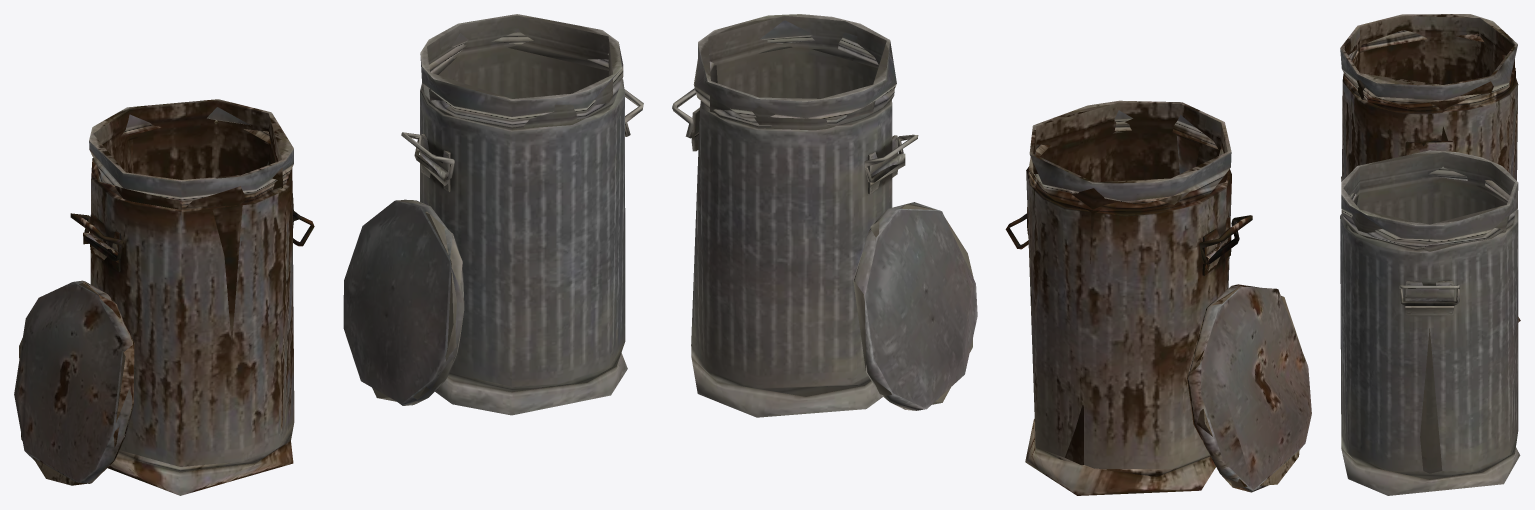
File: metal_trash_can.glb
The picture shows the model from 3 angles, left to right: view 1: azimuth 30°, elevation 25°; view 2: azimuth 150°, elevation 25°; view 3: azimuth 270°, elevation 25°; orthographic projection. The views are drawn at different scales.
Parts seen in each view (by area): view 1: metal_trash_can, metal_trash_can_rust, metal_trash_can_lid, metal_trash_can_rust_lid, metal_trash_can_rust_handle_left, metal_trash_can_handle_left; view 2: metal_trash_can, metal_trash_can_rust, metal_trash_can_lid, metal_trash_can_rust_lid, metal_trash_can_rust_handle_left; view 3: metal_trash_can, metal_trash_can_rust, metal_trash_can_handle_right.
Boxes of the visible parts, x1,y1,x2,y2 form: metal_trash_can: [420, 14, 627, 415]; metal_trash_can_rust: [83, 99, 300, 495]; metal_trash_can_lid: [343, 199, 464, 405]; metal_trash_can_rust_lid: [14, 280, 134, 485]; metal_trash_can_rust_handle_left: [70, 213, 123, 261]; metal_trash_can_handle_left: [401, 132, 455, 180]; metal_trash_can: [691, 14, 905, 417]; metal_trash_can_rust: [1025, 100, 1231, 495]; metal_trash_can_lid: [853, 202, 977, 410]; metal_trash_can_rust_lid: [1187, 284, 1311, 492]; metal_trash_can_rust_handle_left: [1199, 215, 1252, 264]; metal_trash_can: [1340, 150, 1520, 495]; metal_trash_can_rust: [1340, 14, 1520, 322]; metal_trash_can_handle_right: [1399, 284, 1459, 305].
Bounding box in the file's own units: 1.77 × 0.9062 × 0.5431.
Materials: 2 (2 with a texture image).
